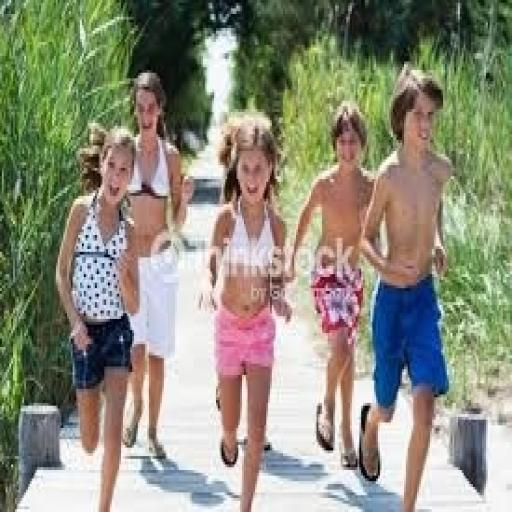running: (356, 62, 454, 509), (198, 109, 294, 509), (283, 98, 384, 473), (52, 120, 143, 510), (119, 67, 194, 465)
